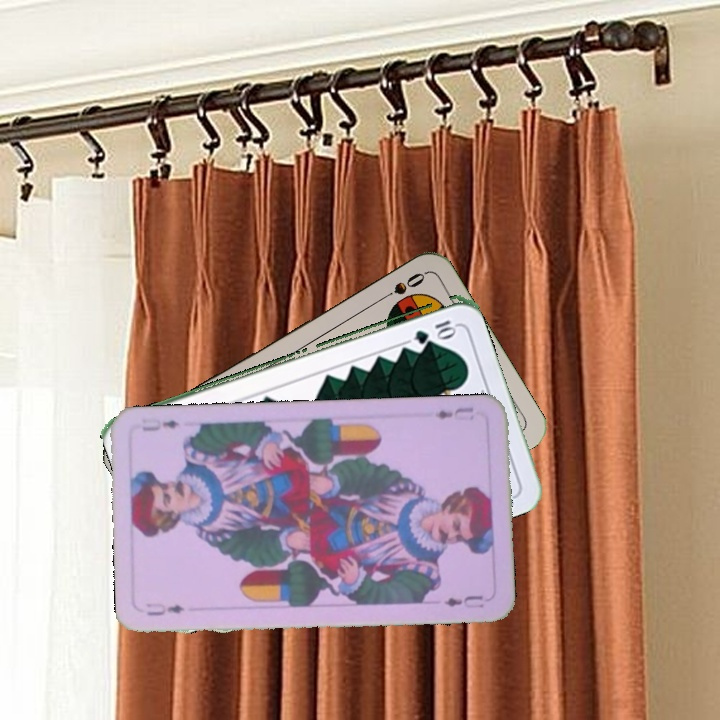EU: (430, 403, 476, 424), (142, 598, 186, 619)
G10: (410, 316, 459, 345)
SO: (374, 268, 428, 305)
